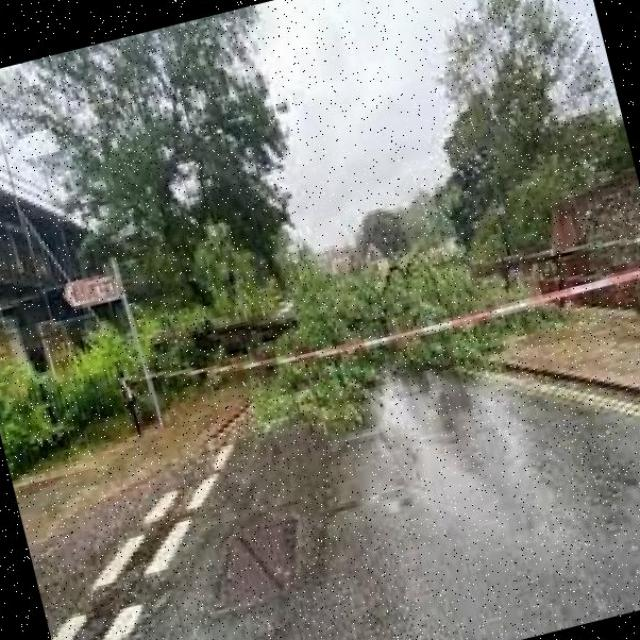fallen_object: (142, 201, 579, 437)
